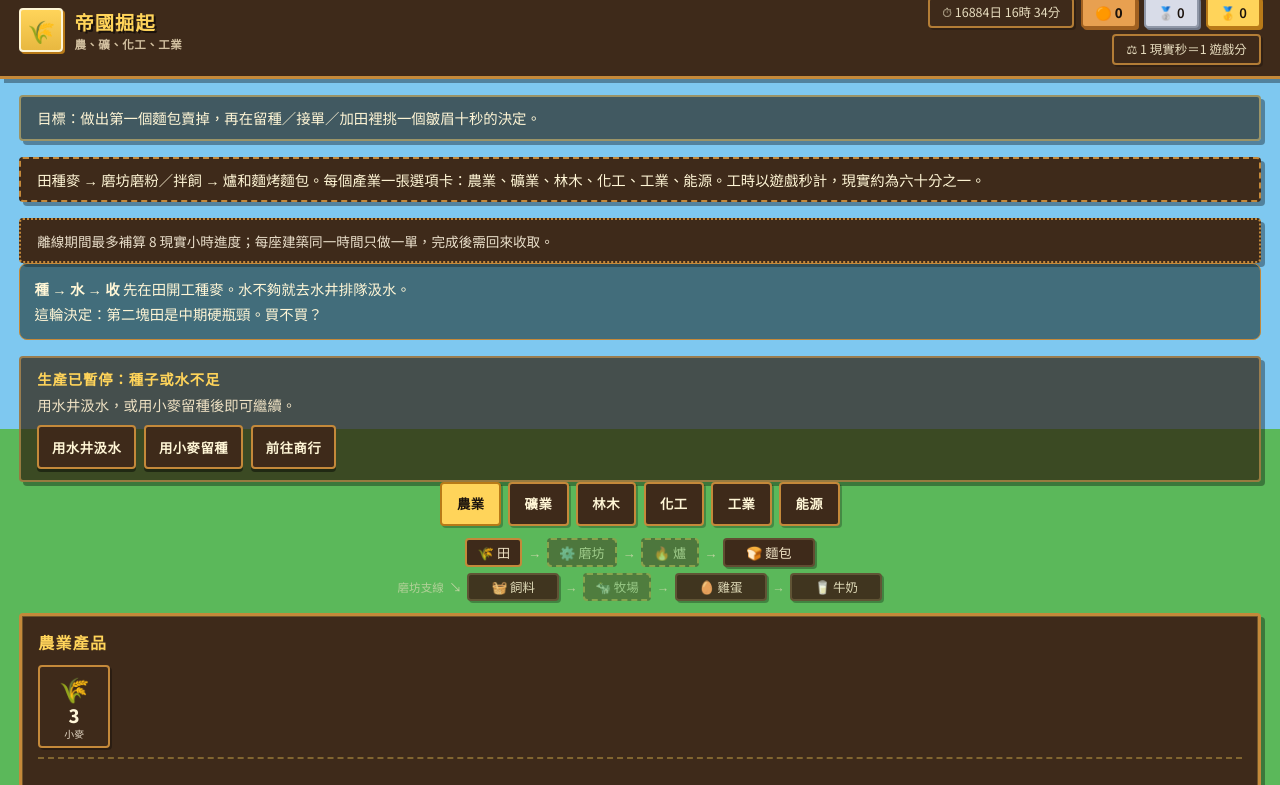
it: industry tabs › puts P4 礦場／冶煉廠 on 礦業 and 食品廠／紡織廠 on 工業 via systemCode
The image size is (1280, 785).
Click the tab "礦業" at (538, 504), box x1=508 y1=482 x2=569 y2=526
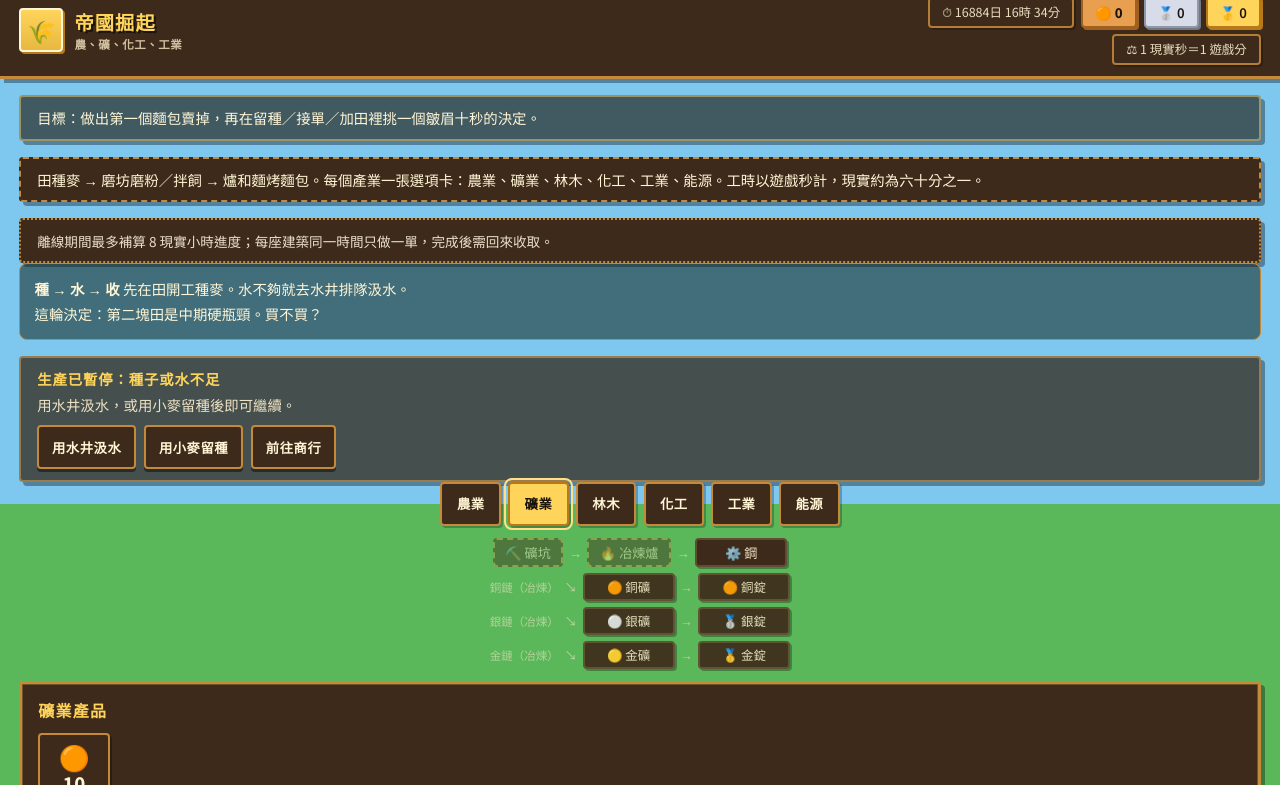
Expected: the button "放置食品廠" is not shown
Click the tab "工業" at (742, 504), box x1=711 y1=482 x2=772 y2=526
(page scrolled)
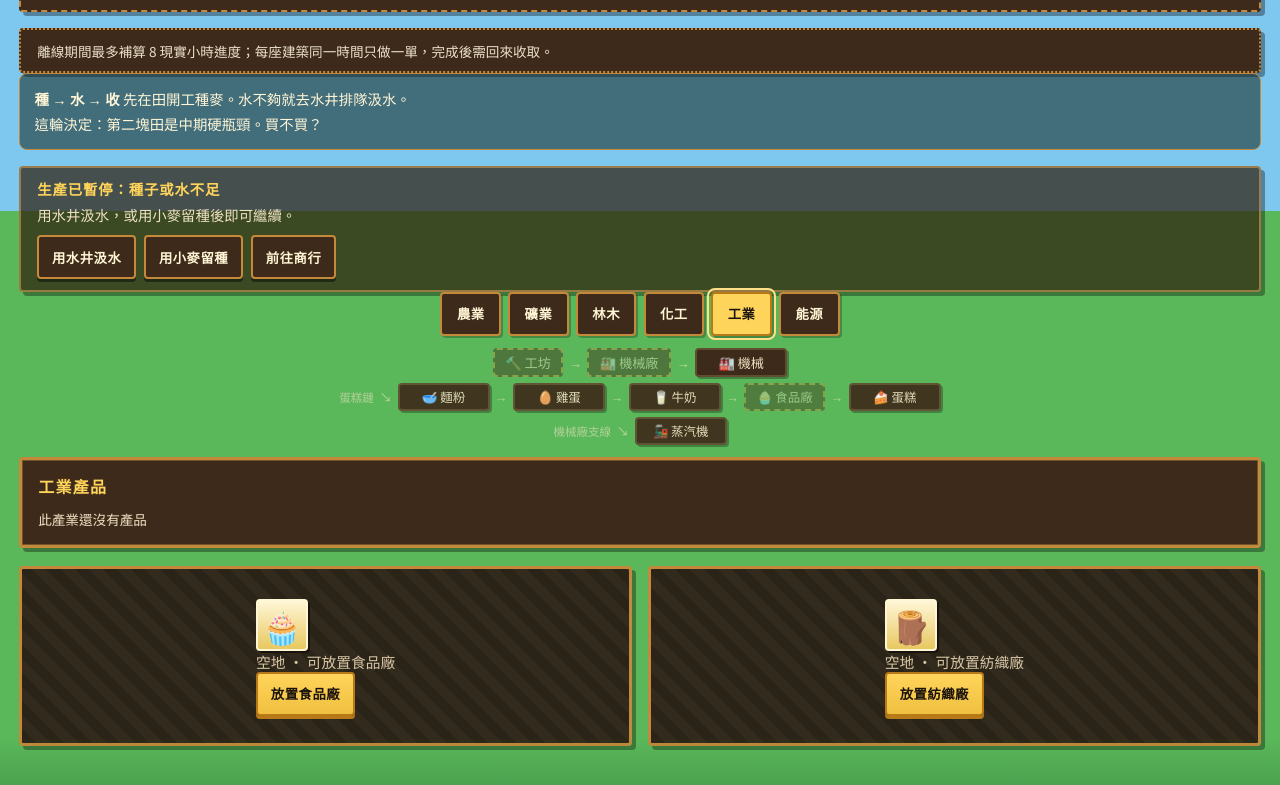
Expected: the button "放置食品廠" is shown, x1=256 y1=672 x2=355 y2=716
Expected: the button "放置紡織廠" is shown, x1=885 y1=672 x2=984 y2=716
Expected: the panel "礦場" is gone
